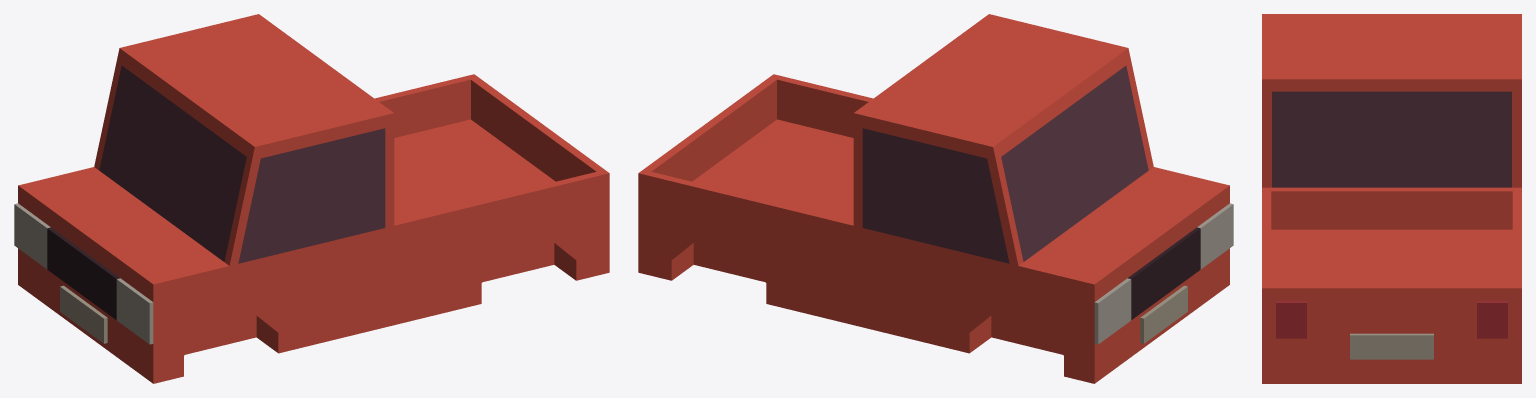
File: Pickup_Red.fbx
The picture shows the model from 3 angles, left to right: view 1: azimuth 30°, elevation 25°; view 2: azimuth 150°, elevation 25°; view 3: azimuth 270°, elevation 25°; orthographic projection. The views are drawn at different scales.
Visible parts, largest first — view 1: Pickup_Red, Pickup_Lights; view 2: Pickup_Red, Pickup_Lights; view 3: Pickup_Red, Pickup_Lights.
Part boxes in pixels (left/top/right/bottom): Pickup_Red: left=18, top=14, right=609, bottom=383; Pickup_Lights: left=14, top=203, right=153, bottom=344; Pickup_Red: left=638, top=14, right=1229, bottom=383; Pickup_Lights: left=1094, top=203, right=1233, bottom=344; Pickup_Red: left=1262, top=14, right=1521, bottom=383; Pickup_Lights: left=1276, top=301, right=1507, bottom=338.
Size of the model in its own units: 3.66 by 1.6 by 1.85.
